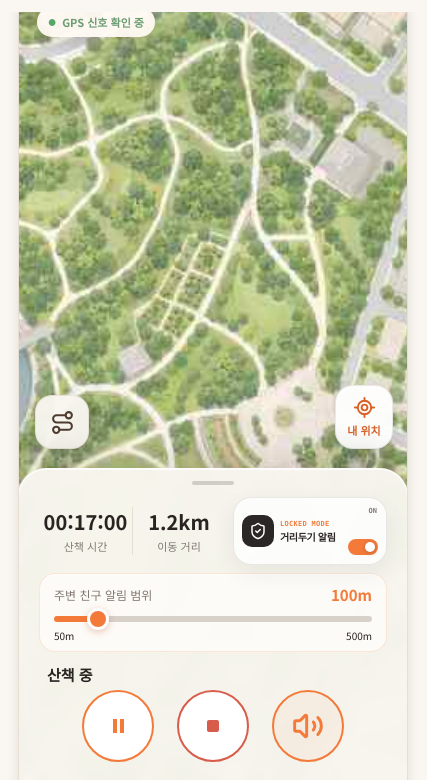
Test: ActiveWalkPage › shows place search only in the 2D route overview and returns to navigation
Step 1. Click the button named "전체 경로 2D로 보기" → click(62, 422), box [35,395,89,449]
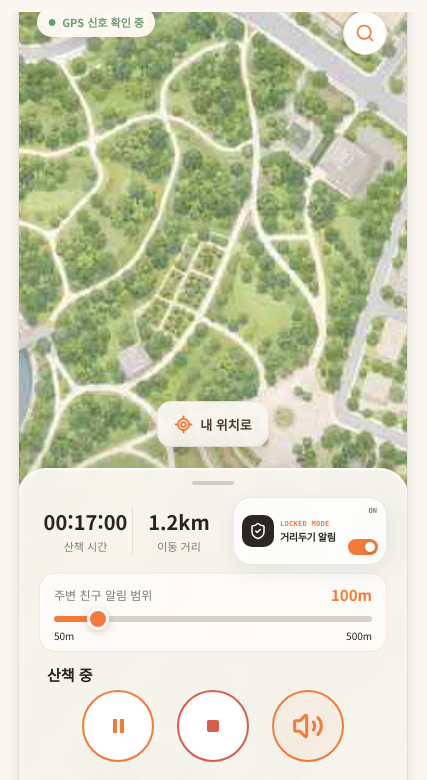
Expected: the button named "장소 검색 열기" is shown, [343,11,387,55]
Expected: the button "내 위치로" is shown
Step 2. Click the button "내 위치로" → click(213, 424), box [157,401,269,447]
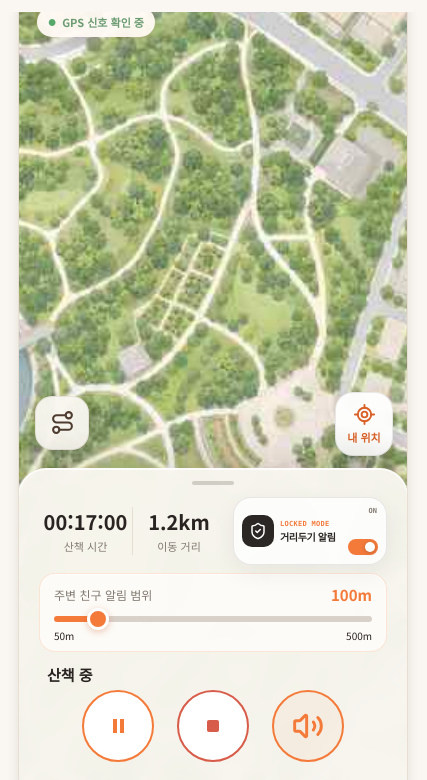
Expected: the button named "전체 경로 2D로 보기" is shown, [35,396,89,450]
